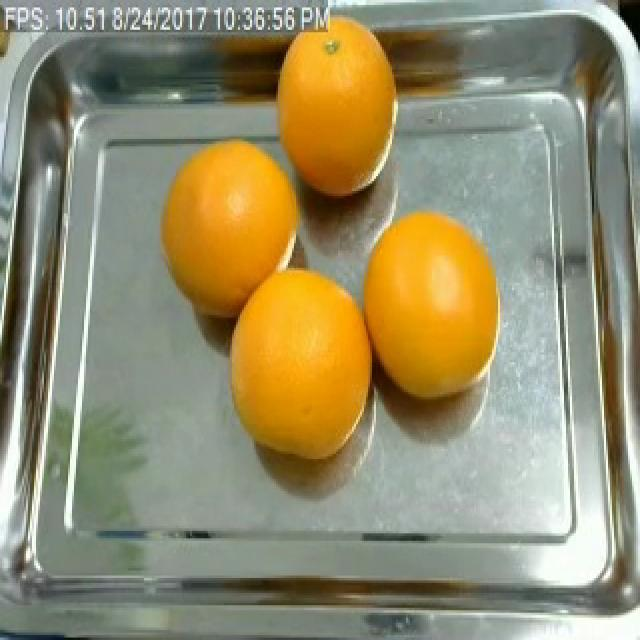Fruit: (144, 126, 314, 325), (262, 0, 412, 218), (350, 196, 508, 387), (554, 7, 630, 134), (596, 0, 640, 74)
